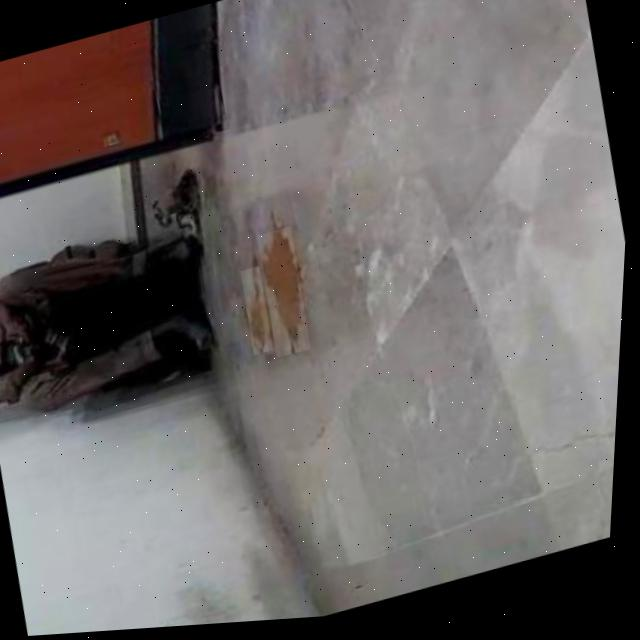spillage: (267, 232, 307, 355), (250, 270, 273, 355)
